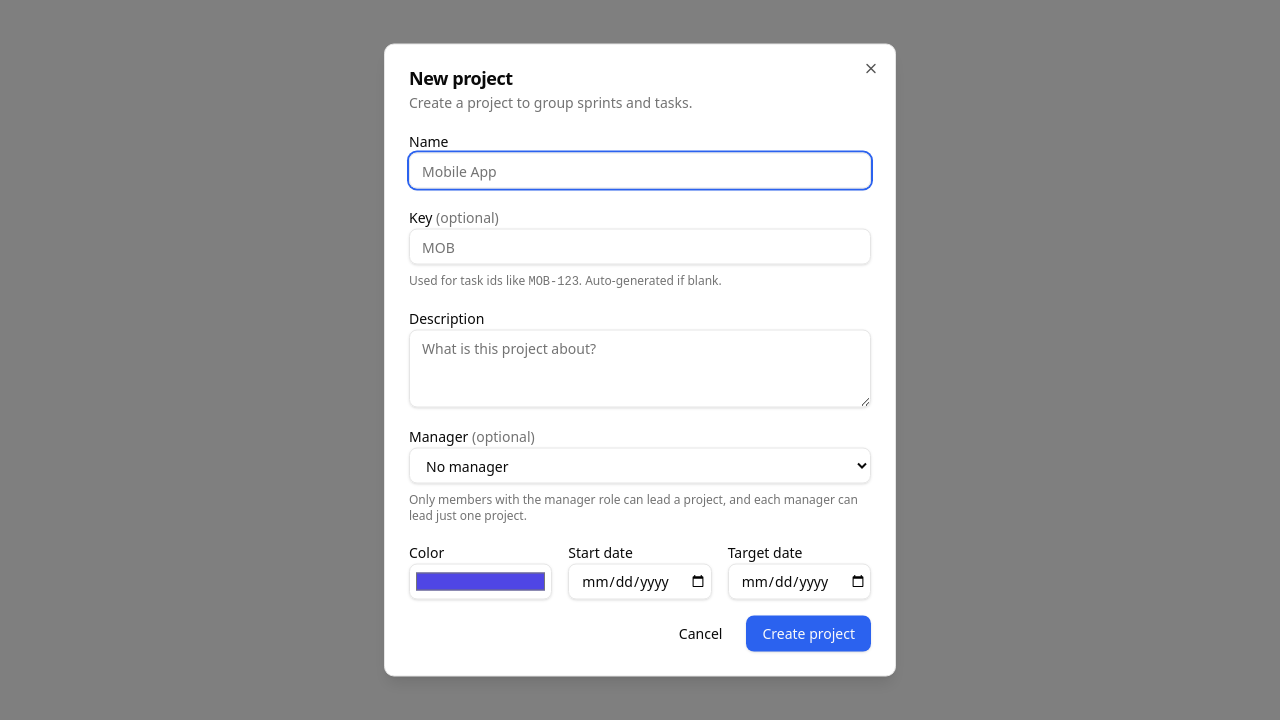
it: ProjectFormDialog › blocks submit and shows validation for an empty name
Click the button "Create project" at {"x": 809, "y": 634}, box [746,616,871,652]
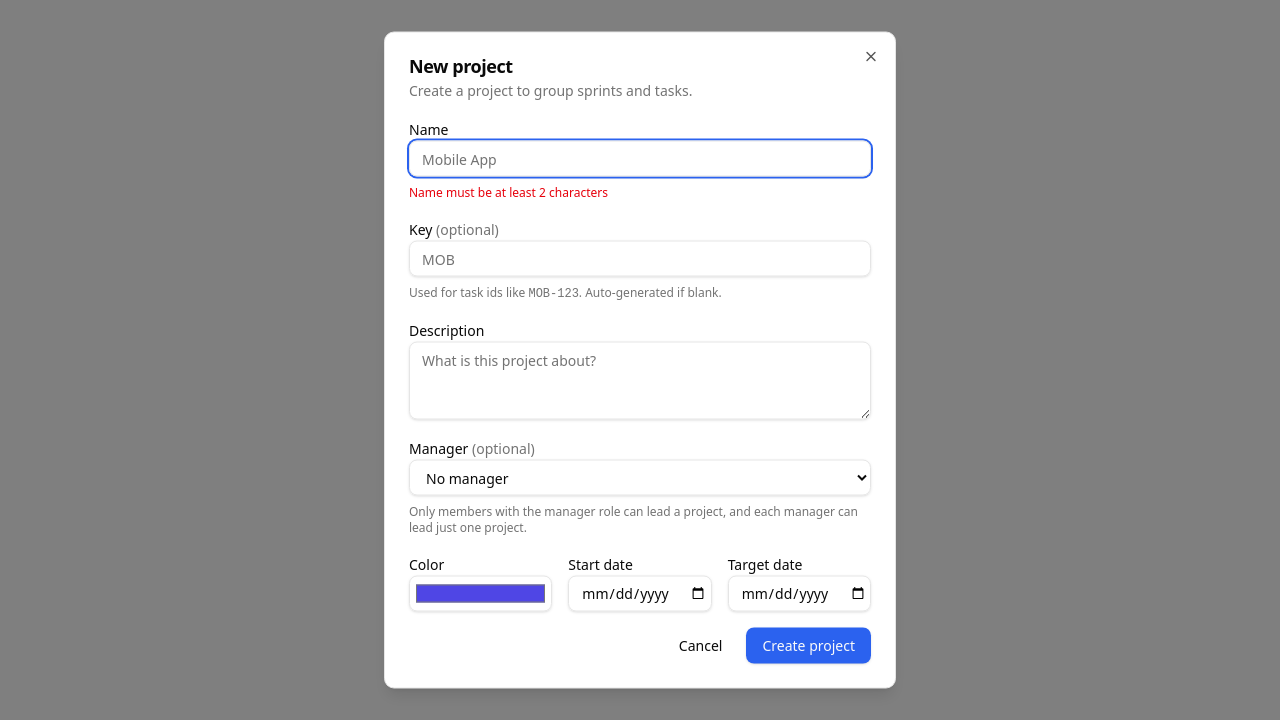
Result: the text "Name must be at least 2 characters" is shown at [409,184,608,200]
